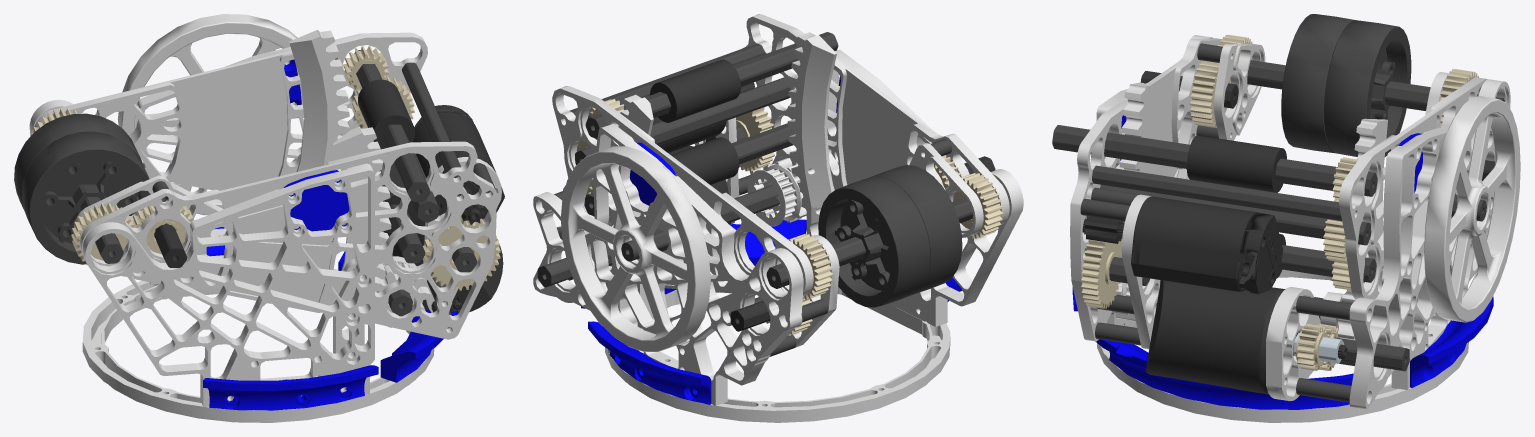
Rendered from 1706-turret-a.glb.
The picture shows the model from 3 angles, left to right: view 1: azimuth 30°, elevation 25°; view 2: azimuth 150°, elevation 25°; view 3: azimuth 270°, elevation 25°; orthographic projection. The views are drawn at different scales.
Visible parts, largest first — view 1: RB-50-105, 3" Solid Urethane Wheel (45A, 1" Wide, 1/2" Hex Bore), RB-50-111, Top Plate, 1/2" Rounded Hex (2.125" L, 13.75mm OD), RB-05-F-0.562-SS, 18t Aluminum Spur Gear (20 DP, 1/2" Hex Bore) (×2); view 2: RB-50-105, 3" Solid Urethane Wheel (45A, 1" Wide, 1/2" Hex Bore), RB-05-F-0.562-SS, Top Plate, 1/2" Rounded Hex (2.125" L, 13.75mm OD), RB-50-111, 18t Aluminum Spur Gear (20 DP, 1/2" Hex Bore) (×2); view 3: RB-50-105, 1/2" Rounded Hex (2.125" L, 13.75mm OD), RB-05-F-0.562-SS, 3" Solid Urethane Wheel (45A, 1" Wide, 1/2" Hex Bore), 18t Aluminum Spur Gear (20 DP, 1/2" Hex Bore) (×2), RB-50-111, Top Plate, Kraken Spline to 1/2" Hex Adapter (TTB-0130).
Boxes of the visible parts, x1,y1,x2,y2 form: RB-50-105: (29,14,501,406); 3" Solid Urethane Wheel (45A, 1" Wide, 1/2" Hex Bore): (14,113,150,264); RB-50-111: (203,59,457,410); Top Plate: (82,269,434,422); 1/2" Rounded Hex (2.125" L, 13.75mm OD): (154,79,504,313); RB-05-F-0.562-SS: (80,50,494,328); 18t Aluminum Spur Gear (20 DP, 1/2" Hex Bore) (×2): (31,46,500,290); RB-50-105: (533,14,1023,405); 3" Solid Urethane Wheel (45A, 1" Wide, 1/2" Hex Bore): (818,165,962,307); RB-05-F-0.562-SS: (537,32,972,356); Top Plate: (605,281,950,422); 1/2" Rounded Hex (2.125" L, 13.75mm OD): (558,59,995,331); RB-50-111: (581,76,962,404); 18t Aluminum Spur Gear (20 DP, 1/2" Hex Bore) (×2): (576,99,1003,336); RB-50-105: (1070,35,1520,409); 1/2" Rounded Hex (2.125" L, 13.75mm OD): (1082,71,1495,394); RB-05-F-0.562-SS: (1052,43,1504,402); 3" Solid Urethane Wheel (45A, 1" Wide, 1/2" Hex Bore): (1281,14,1411,156); 18t Aluminum Spur Gear (20 DP, 1/2" Hex Bore) (×2): (1081,34,1478,370); RB-50-111: (1072,115,1493,409); Top Plate: (1097,269,1468,422); Kraken Spline to 1/2" Hex Adapter (TTB-0130): (1293,333,1344,363).
Bounding box in the file's own units: 0.2959 × 0.1722 × 0.2627.
